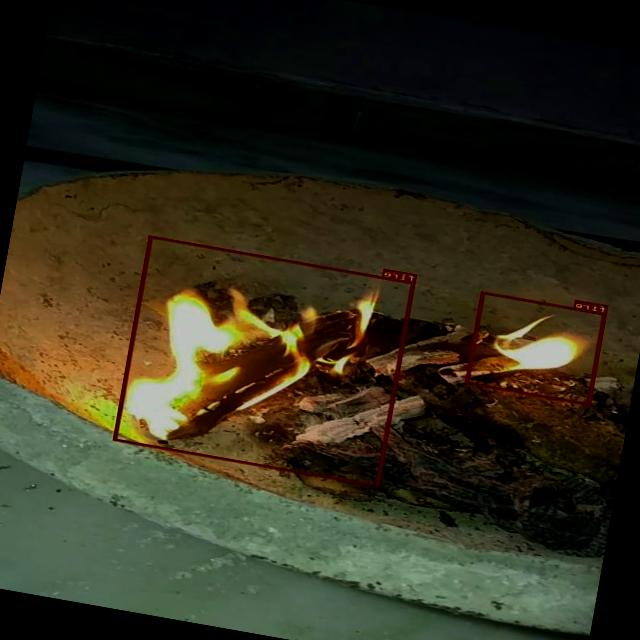fire: (113, 234, 416, 486), (466, 290, 607, 406)
